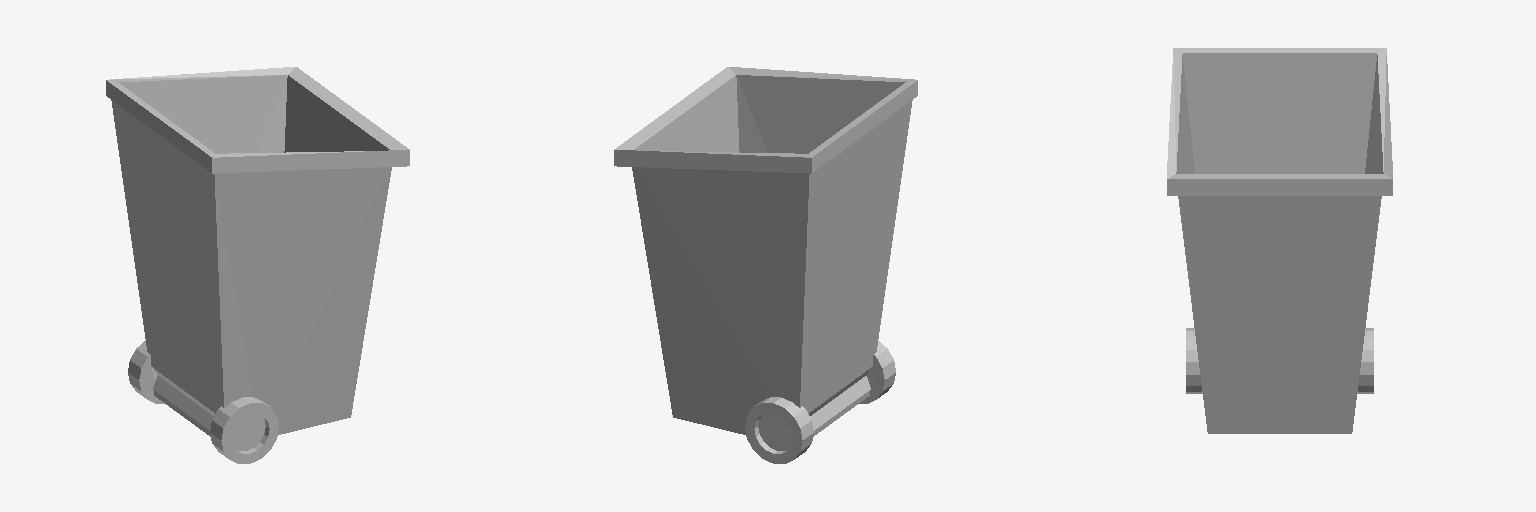
Rendered from garbageBin_New.obj.
3 views of the same model, side by side, from view 1: azimuth 30°, elevation 25°; view 2: azimuth 150°, elevation 25°; view 3: azimuth 270°, elevation 25° (orthographic).
Parts seen in each view (by area): view 1: garbagebin; view 2: garbagebin; view 3: garbagebin.
Boxes of the visible parts, x1=… form: garbagebin: x1=106, y1=67, x2=409, y2=463; garbagebin: x1=614, y1=67, x2=917, y2=463; garbagebin: x1=1167, y1=48, x2=1392, y2=433.
Size of the model in its own units: 27.05 by 42.85 by 27.38.